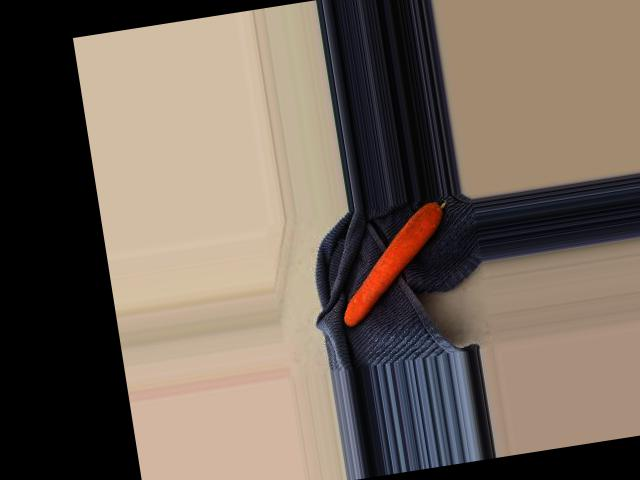carrot: (328, 200, 457, 328)
